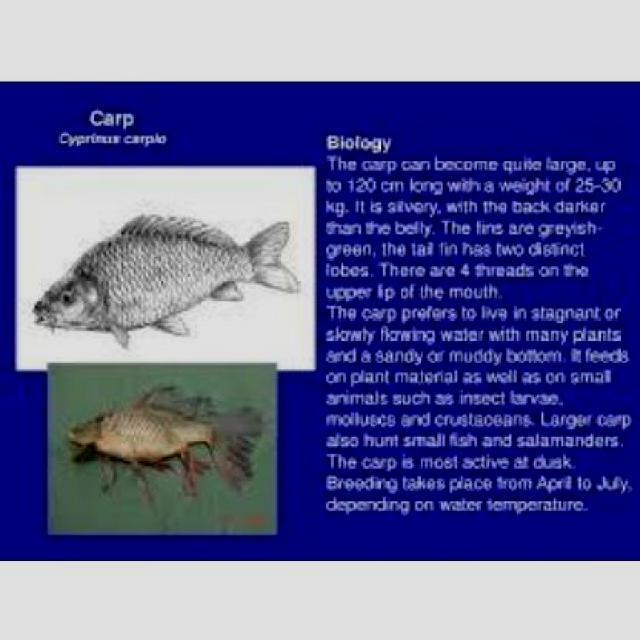ikan-mas: (29, 202, 297, 348), (64, 383, 268, 479)
